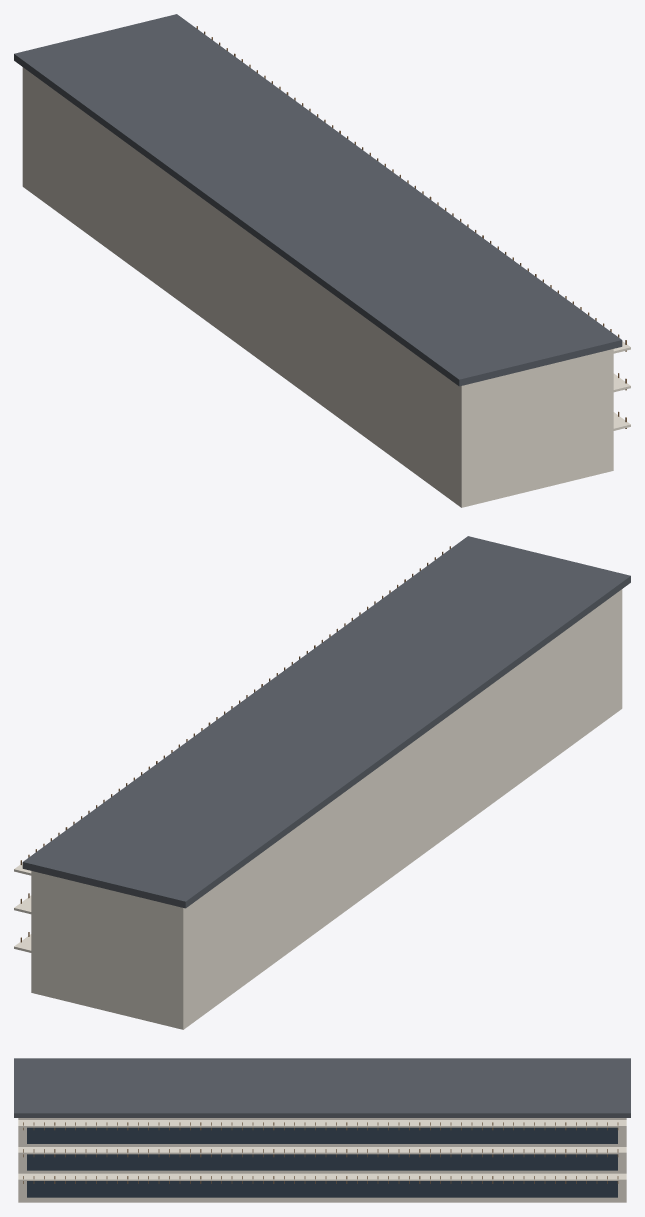
The model's file is circuit_hotel.glb.
The picture shows the model from 3 angles, top to bottom: view 1: azimuth 30°, elevation 25°; view 2: azimuth 150°, elevation 25°; view 3: azimuth 270°, elevation 25°; orthographic projection. The views are drawn at different scales.
Parts seen in each view (by area): view 1: hotel; view 2: hotel; view 3: hotel.
Part boxes in pixels (left/top/right/bottom): hotel: left=14, top=14, right=630, bottom=507; hotel: left=14, top=536, right=630, bottom=1029; hotel: left=14, top=1058, right=630, bottom=1202.
Size of the model in its own units: 16.1 by 11.6 by 71.
